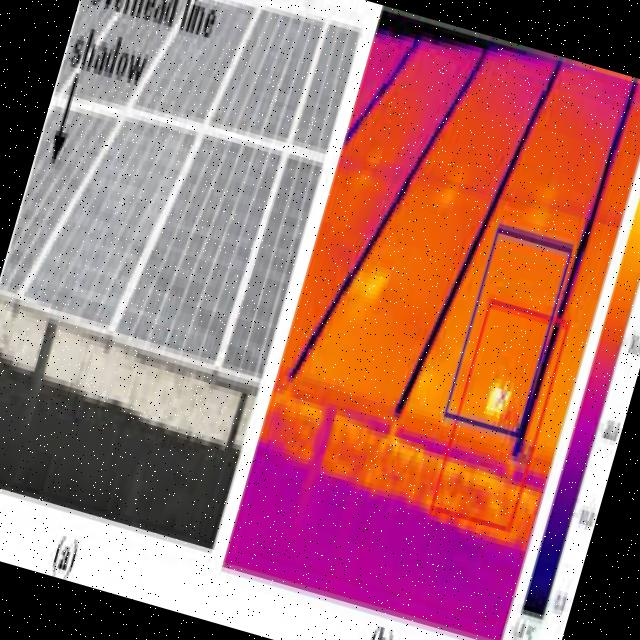Hotspot: (481, 377, 516, 424)
